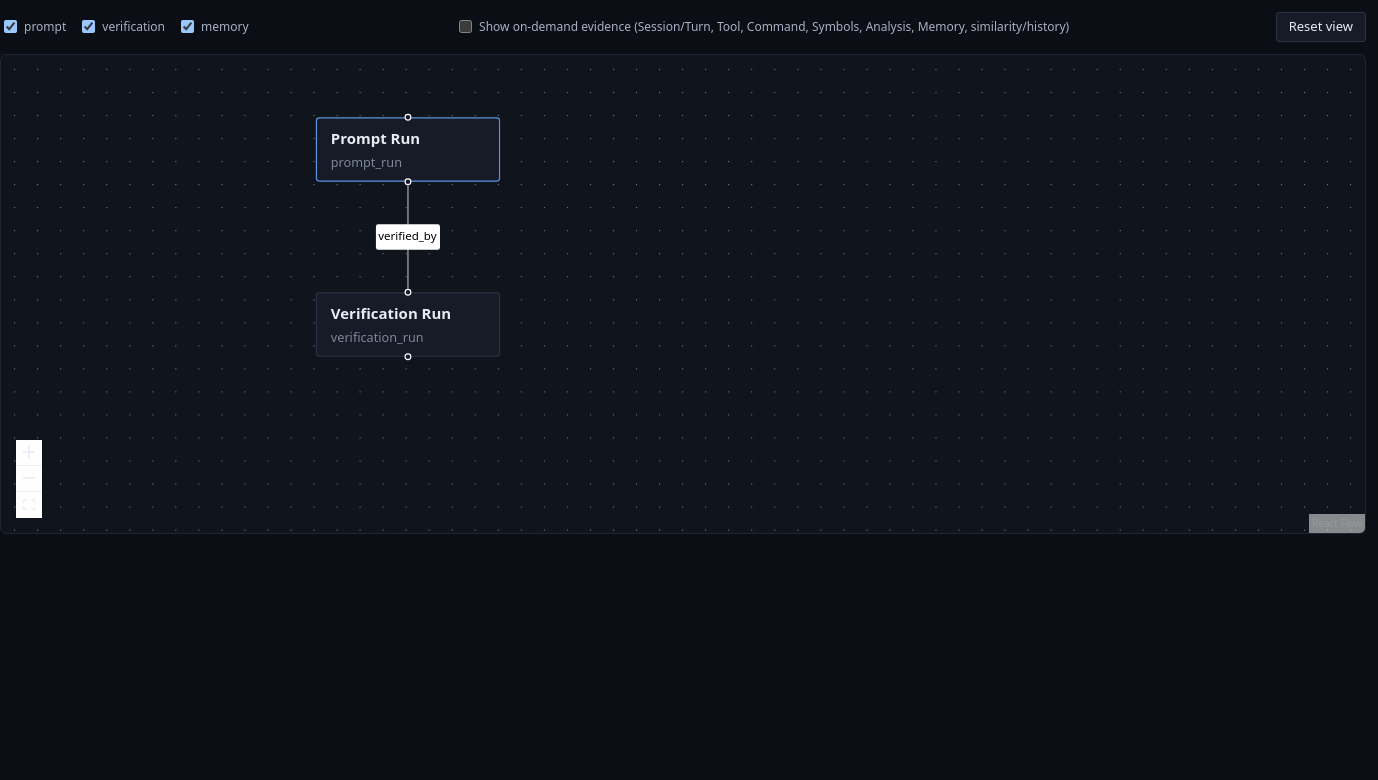
PerformanceGraph › reuses a cached layout for a previously-seen exact node/edge set instead of recomputing it (Section C)
Expected: the text "Verification Run" is shown, [331, 302, 451, 323]
Click the checkbox labelled "verification": coordinates (89, 27) [82, 20, 95, 33]
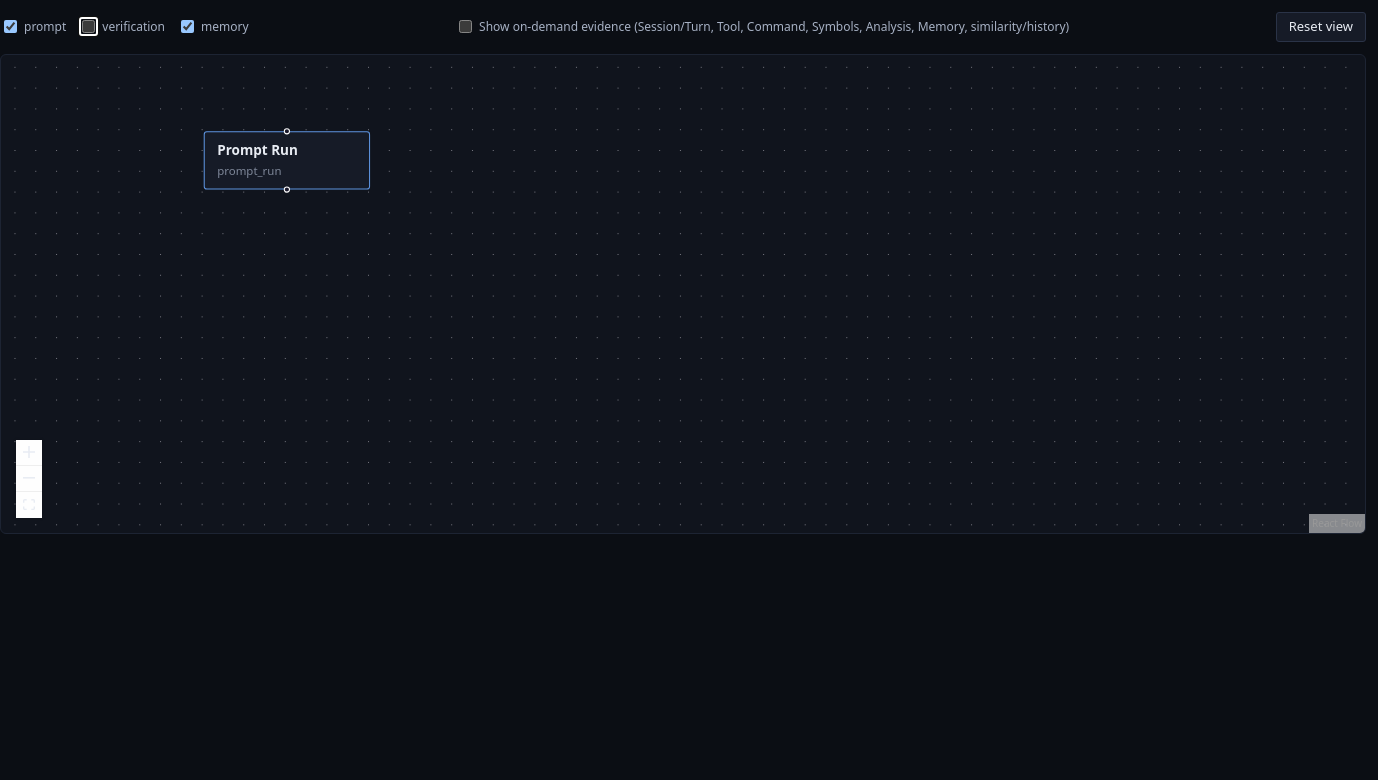
Now the button "Verification Run" is gone
Click the checkbox labelled "verification": coordinates (89, 27) [82, 20, 95, 33]
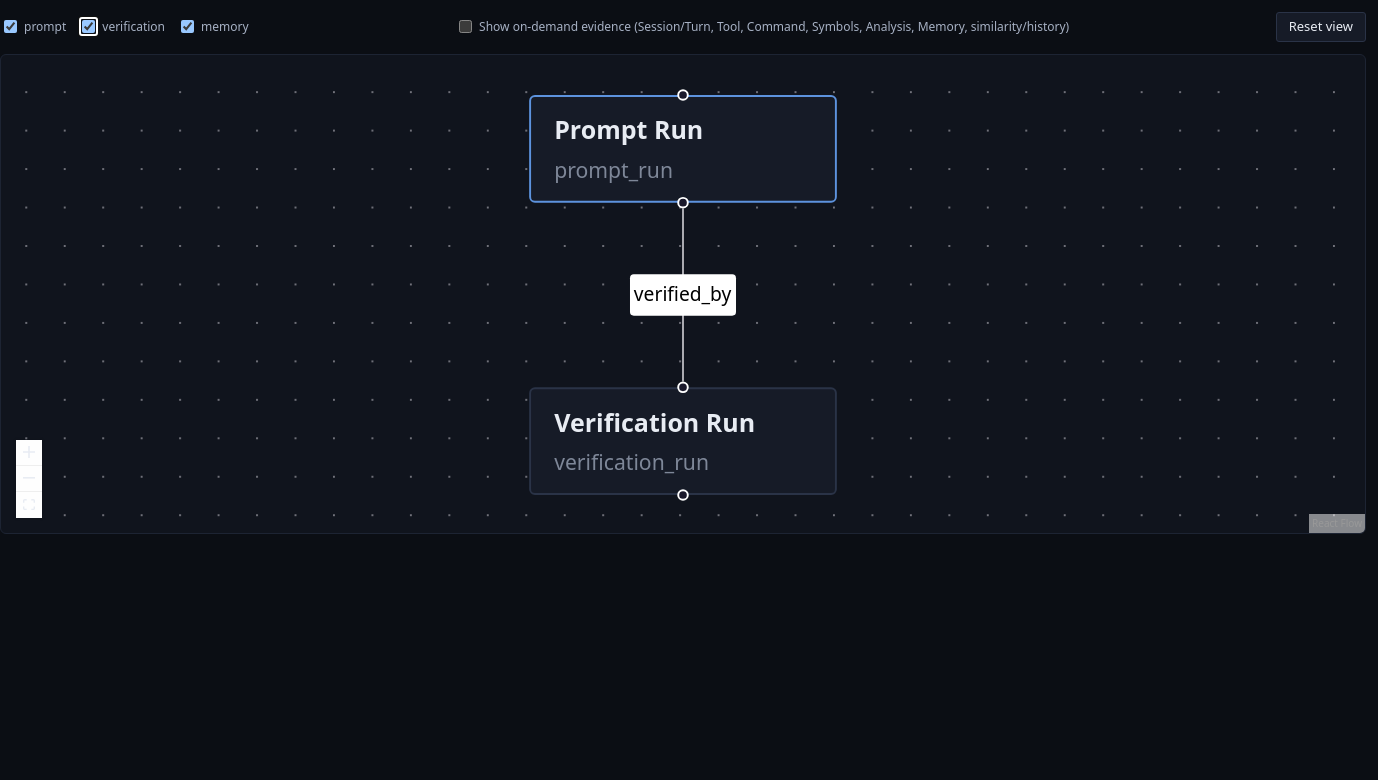
Now the text "Verification Run" is shown, box [554, 404, 755, 439]
